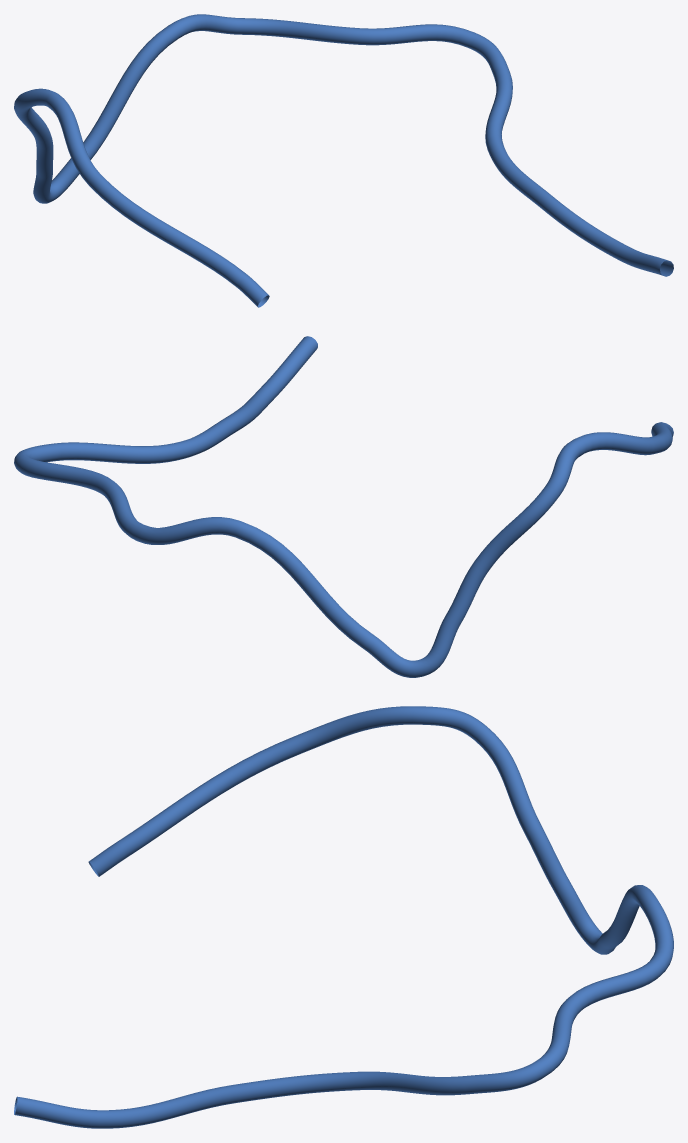
The picture shows the model from 3 angles, top to bottom: view 1: azimuth 30°, elevation 25°; view 2: azimuth 150°, elevation 25°; view 3: azimuth 270°, elevation 25°; orthographic projection. The views are drawn at different scales.
Parts seen in each view (by area): view 1: 右侧掌深静脉弓; view 2: 右侧掌深静脉弓; view 3: 右侧掌深静脉弓.
Boxes of the visible parts, x1=… form: 右侧掌深静脉弓: x1=14, y1=14, x2=673, y2=307; 右侧掌深静脉弓: x1=14, y1=336, x2=673, y2=677; 右侧掌深静脉弓: x1=14, y1=706, x2=673, y2=1128.
Bounding box in the file's own units: 0.0718 × 0.0247 × 0.0725.
